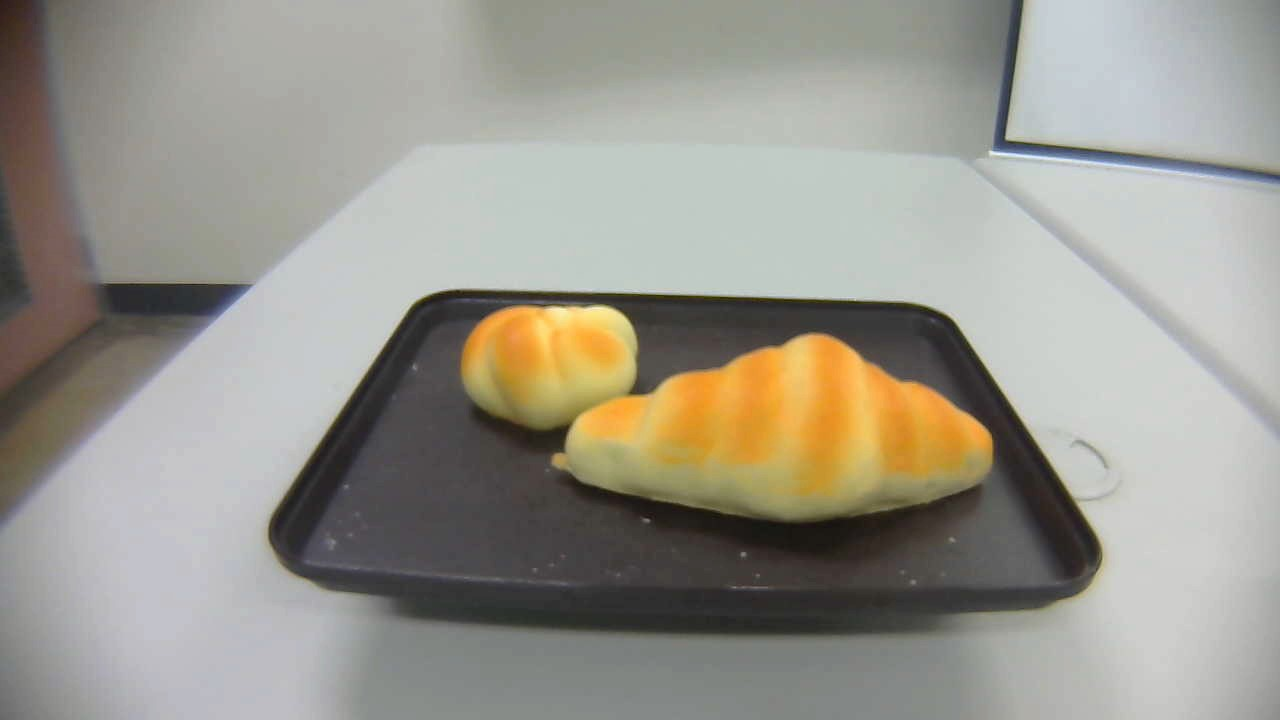croissant: (550, 331, 994, 527)
twist bread: (461, 304, 638, 432)
